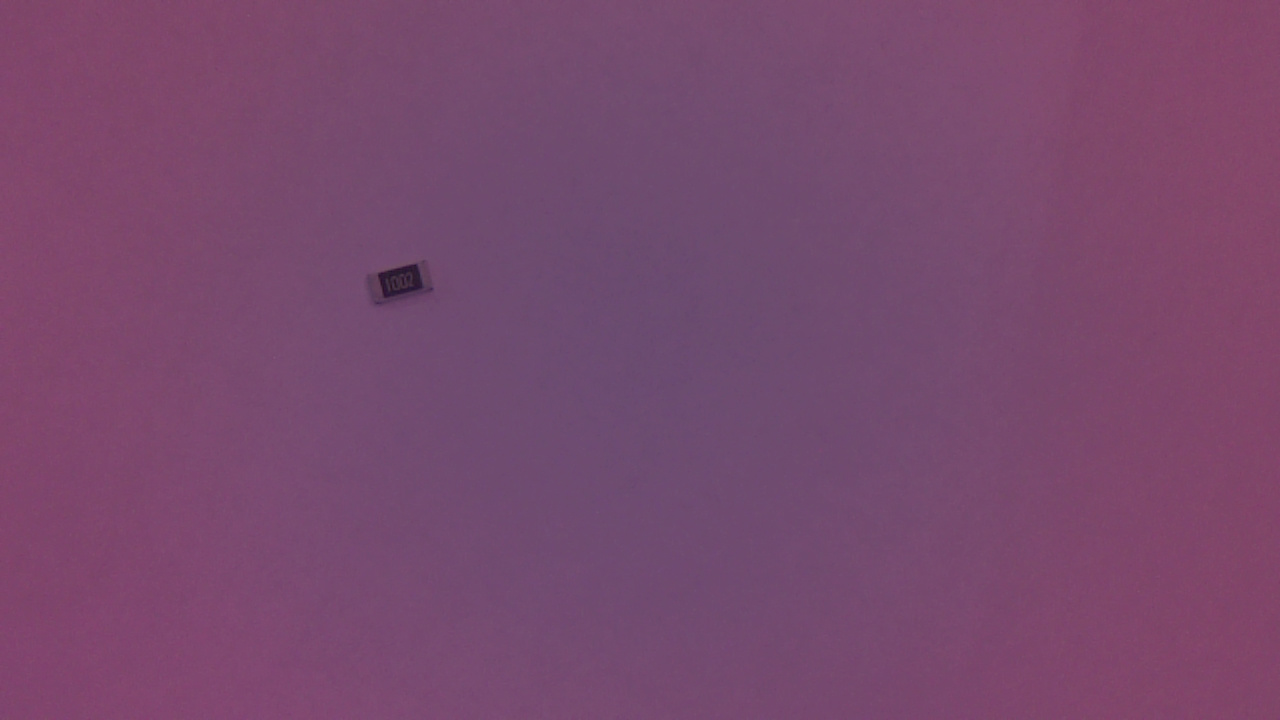Resistor: (364, 260, 445, 316)
